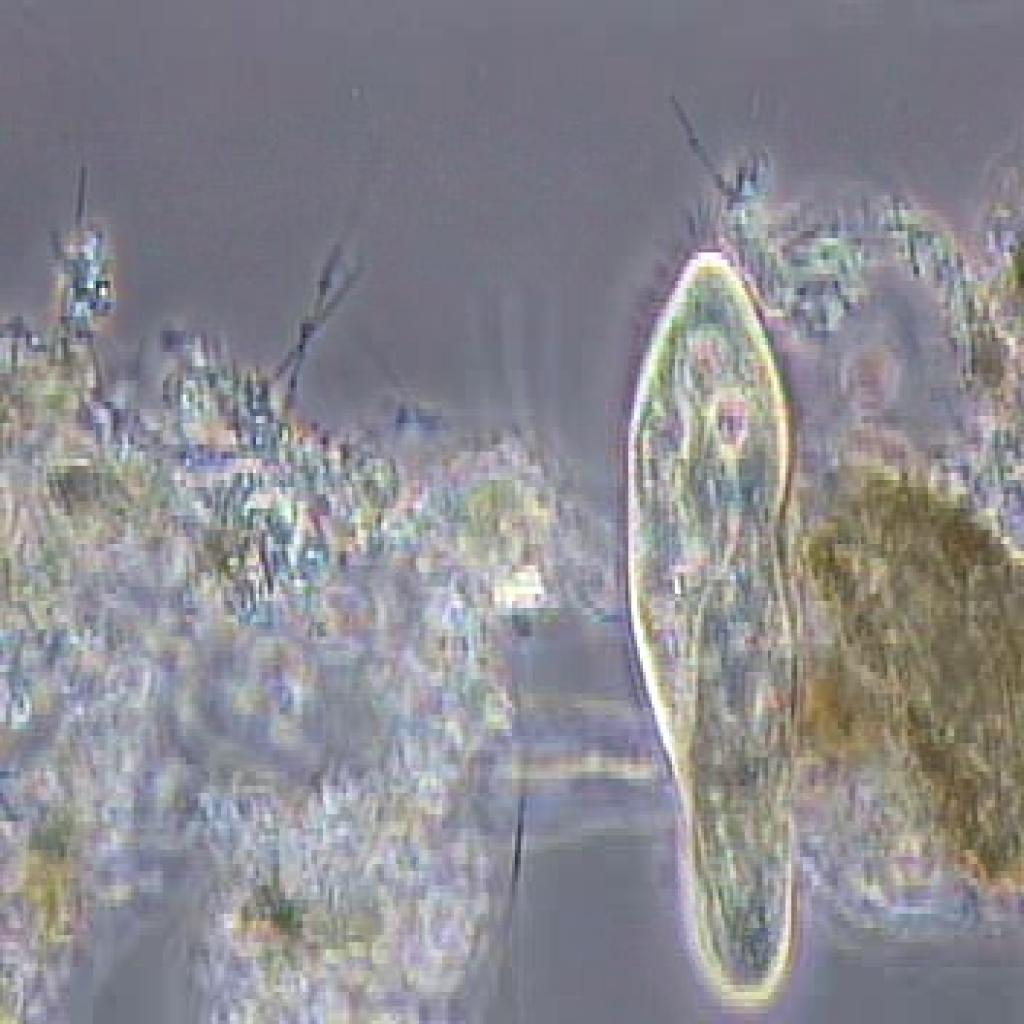Paramecium: (611, 226, 823, 1008)
